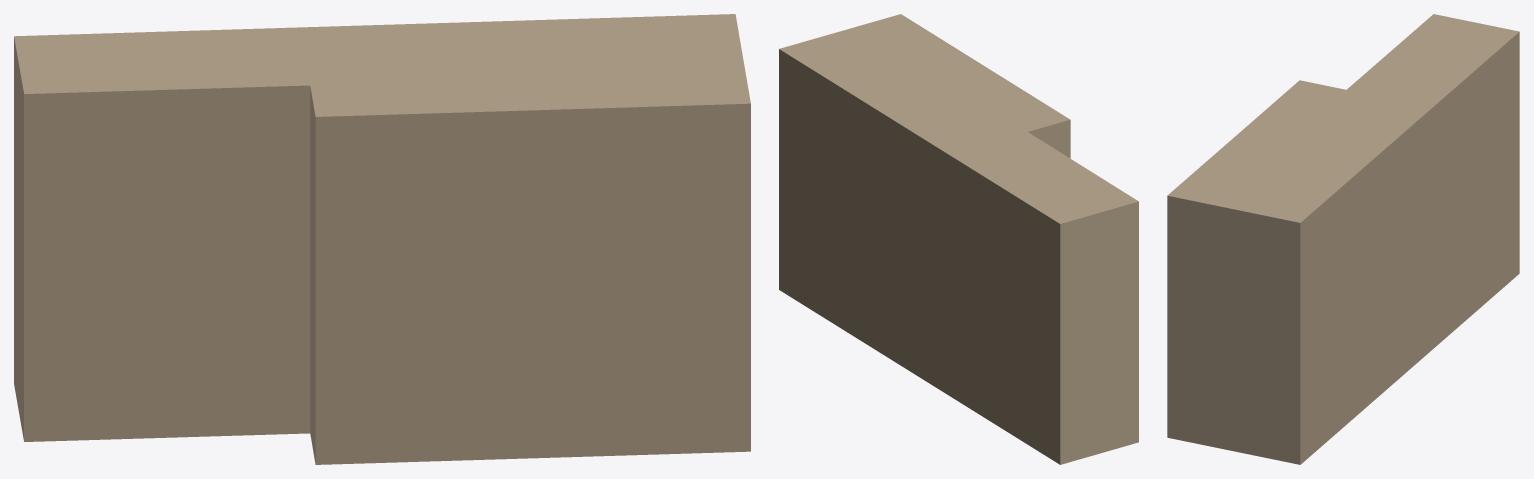
The model's file is bld_101374855.dae.
3 renders of one model, left to right at view 1: azimuth 30°, elevation 25°; view 2: azimuth 150°, elevation 25°; view 3: azimuth 270°, elevation 25°, orthographic. The views are drawn at different scales.
Parts seen in each view (by area): view 1: bld_101374855; view 2: bld_101374855; view 3: bld_101374855.
Part boxes in pixels (box(x1,y1,x2,y2)): bld_101374855: box(14, 14, 750, 464); bld_101374855: box(779, 14, 1138, 464); bld_101374855: box(1167, 14, 1519, 464).
Size of the model in its own units: 14.81 by 10.56 by 8.
